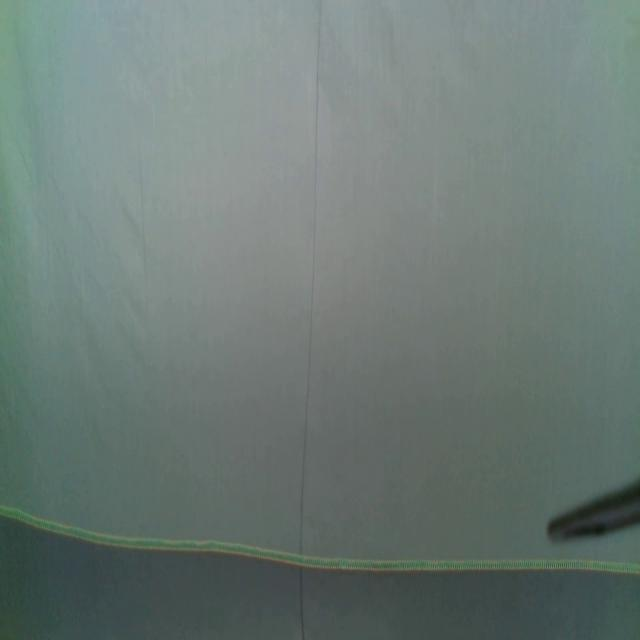crease: (298, 2, 323, 638), (138, 138, 151, 346)
